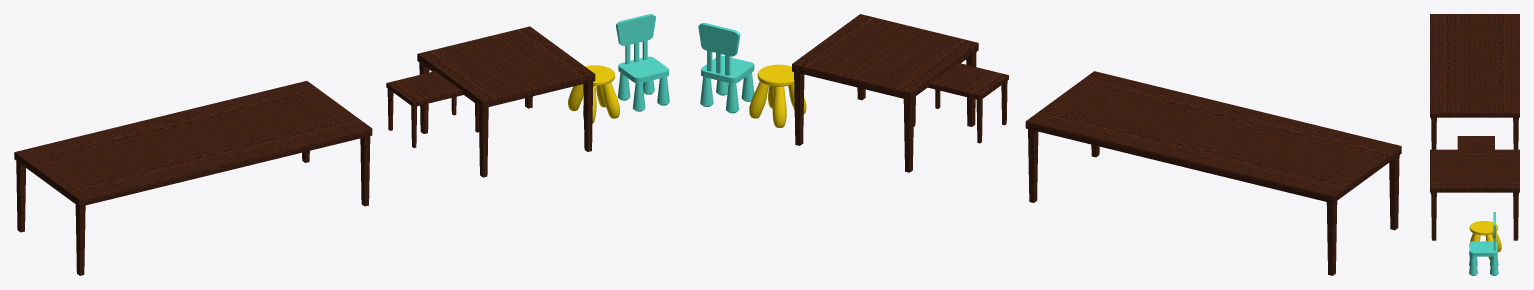
File: Moebel.glb
3 renders of one model, left to right at view 1: azimuth 30°, elevation 25°; view 2: azimuth 150°, elevation 25°; view 3: azimuth 270°, elevation 25°, orthographic. The views are drawn at different scales.
Visible parts, largest first — view 1: Cube.003, Cube.001, Cube, Cube.002, Cylinder.001; view 2: Cube.003, Cube.001, Cube, Cube.002, Cylinder.001; view 3: Cube.003, Cube.001, Cube, Cylinder.001, Cube.002.
Part boxes in pixels (box(x1,y1,x2,y2)): Cube.003: box(14, 81, 372, 275); Cube.001: box(417, 26, 595, 177); Cube: box(616, 14, 669, 111); Cube.002: box(386, 71, 479, 147); Cylinder.001: box(568, 65, 619, 123); Cube.003: box(1025, 71, 1401, 275); Cube.001: box(792, 14, 978, 172); Cube: box(698, 23, 754, 113); Cube.002: box(913, 62, 1008, 143); Cylinder.001: box(749, 64, 806, 127); Cube.003: box(1430, 14, 1519, 149); Cube.001: box(1430, 149, 1519, 240); Cube: box(1469, 212, 1498, 275); Cylinder.001: box(1469, 221, 1501, 260); Cube.002: box(1457, 136, 1494, 149).
Bounding box in the file's own units: 11.03 × 1.33 × 2.
Materials: 3 (1 with a texture image).
